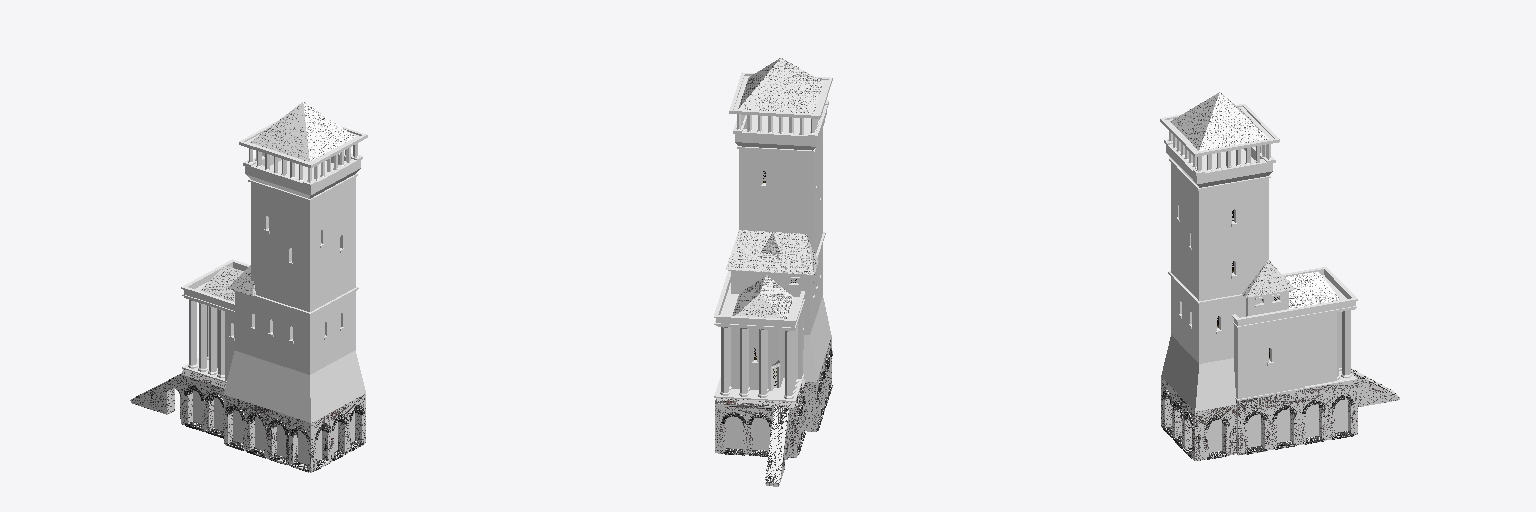
The picture shows the model from 3 angles: view 1: azimuth 30°, elevation 25°; view 2: azimuth 150°, elevation 25°; view 3: azimuth 270°, elevation 25°; orthographic projection.
Parts seen in each view (by area): view 1: mesh5_mesh5-geometry, mesh2_mesh2-geometry, mesh6_mesh6-geometry, mesh1_mesh1-geometry, mesh3_mesh3-geometry; view 2: mesh5_mesh5-geometry, mesh6_mesh6-geometry, mesh1_mesh1-geometry, mesh2_mesh2-geometry; view 3: mesh5_mesh5-geometry, mesh2_mesh2-geometry, mesh6_mesh6-geometry, mesh1_mesh1-geometry, mesh3_mesh3-geometry.
Part boxes in pixels (x1,y1,x2,y2): mesh5_mesh5-geometry: (130,151,365,472); mesh2_mesh2-geometry: (184,385,364,472); mesh6_mesh6-geometry: (239,102,367,167); mesh1_mesh1-geometry: (186,143,357,377); mesh3_mesh3-geometry: (229,212,344,343); mesh5_mesh5-geometry: (714,100,831,486); mesh6_mesh6-geometry: (729,58,832,118); mesh1_mesh1-geometry: (720,112,822,398); mesh2_mesh2-geometry: (721,348,832,456); mesh5_mesh5-geometry: (1161,139,1399,460); mesh2_mesh2-geometry: (1162,390,1354,459); mesh6_mesh6-geometry: (1160,92,1279,156); mesh1_mesh1-geometry: (1168,131,1351,379); mesh3_mesh3-geometry: (1176,201,1273,365).
Size of the model in its own units: 0.3335 by 0.7972 by 0.5032.
9 materials, 4 textured.